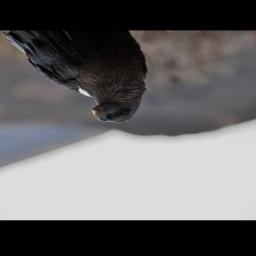Crow: (0, 31, 150, 125)
